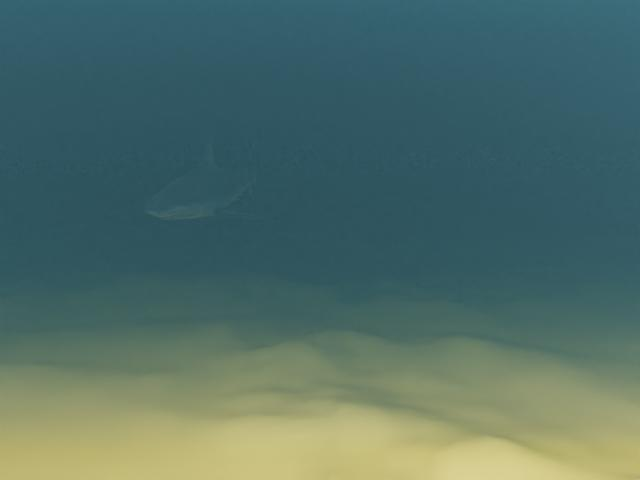Carribean Shark.001: (140, 133, 276, 220)
